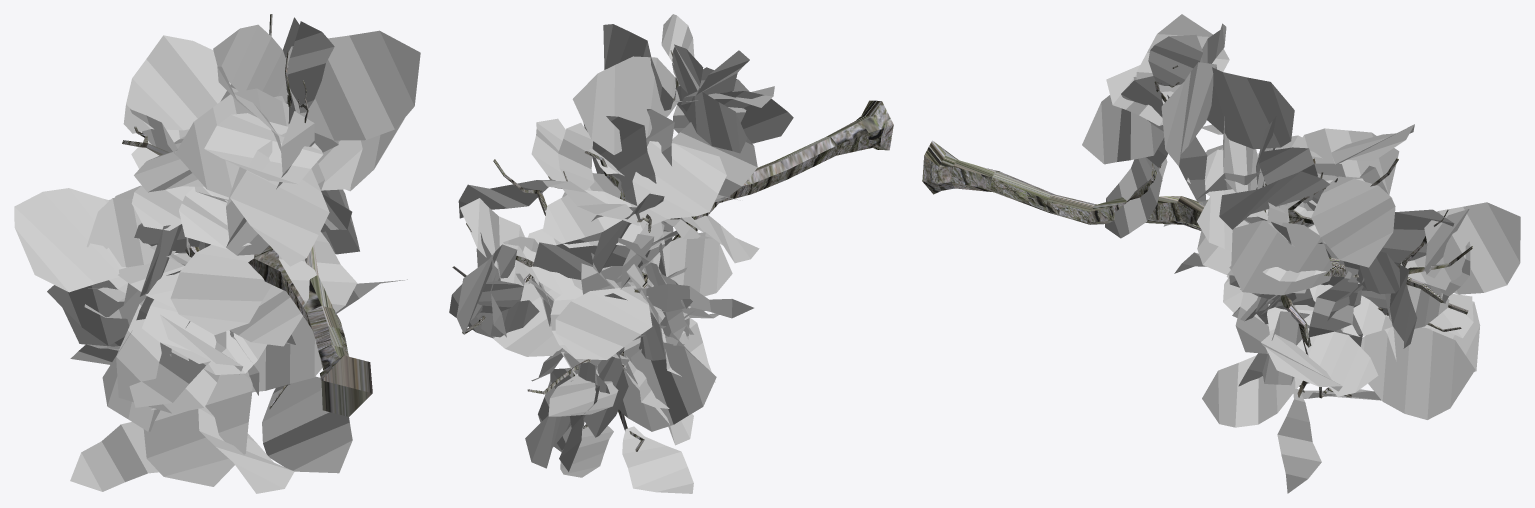
Rendered from tree2.fbx.
The picture shows the model from 3 angles, left to right: view 1: azimuth 30°, elevation 25°; view 2: azimuth 150°, elevation 25°; view 3: azimuth 270°, elevation 25°; orthographic projection. The views are drawn at different scales.
Parts seen in each view (by area): view 1: Cube|281d189f87e83778f13cd9dab3140979|Dupli|72, Cube|281d189f87e83778f13cd9dab3140979|Dupli|51, Cube, Cube|281d189f87e83778f13cd9dab3140979|Dupli|41, Cube|281d189f87e83778f13cd9dab3140979|Dupli|99, Cube|281d189f87e83778f13cd9dab3140979|Dupli|80, Cube|281d189f87e83778f13cd9dab3140979|Dupli|56, Cube|281d189f87e83778f13cd9dab3140979|Dupli|88, Cube|281d189f87e83778f13cd9dab3140979|Dupli|69, Cube|281d189f87e83778f13cd9dab3140979|Dupli|70, Cube|281d189f87e83778f13cd9dab3140979|Dupli|23, Cube|281d189f87e83778f13cd9dab3140979|Dupli|9 (+31 smaller); view 2: Cube, Cube|281d189f87e83778f13cd9dab3140979|Dupli|71, Cube|281d189f87e83778f13cd9dab3140979|Dupli|49, Cube|281d189f87e83778f13cd9dab3140979|Dupli|96, Cube|281d189f87e83778f13cd9dab3140979|Dupli|16, Cube|281d189f87e83778f13cd9dab3140979|Dupli|17, Cube|281d189f87e83778f13cd9dab3140979|Dupli|47, Cube|281d189f87e83778f13cd9dab3140979|Dupli|91, Cube|281d189f87e83778f13cd9dab3140979|Dupli|94, Cube|281d189f87e83778f13cd9dab3140979|Dupli|69, Cube|281d189f87e83778f13cd9dab3140979|Dupli|63, Cube|281d189f87e83778f13cd9dab3140979|Dupli|62 (+40 smaller); view 3: Cube, Cube|281d189f87e83778f13cd9dab3140979|Dupli|42, Cube|281d189f87e83778f13cd9dab3140979|Dupli|20, Cube|281d189f87e83778f13cd9dab3140979|Dupli|59, Cube|281d189f87e83778f13cd9dab3140979|Dupli|86, Cube|281d189f87e83778f13cd9dab3140979|Dupli|71, Cube|281d189f87e83778f13cd9dab3140979|Dupli|44, Cube|281d189f87e83778f13cd9dab3140979|Dupli|56, Cube|281d189f87e83778f13cd9dab3140979|Dupli|72, Cube|281d189f87e83778f13cd9dab3140979|Dupli|78, Cube|281d189f87e83778f13cd9dab3140979|Dupli|85, Cube|281d189f87e83778f13cd9dab3140979|Dupli|80 (+25 smaller).
Boxes of the visible parts, x1=… form: Cube|281d189f87e83778f13cd9dab3140979|Dupli|72: x1=274, y1=30, x2=420, y2=140; Cube|281d189f87e83778f13cd9dab3140979|Dupli|51: x1=14, y1=188, x2=119, y2=292; Cube: x1=122, y1=14, x2=372, y2=416; Cube|281d189f87e83778f13cd9dab3140979|Dupli|41: x1=143, y1=371, x2=252, y2=486; Cube|281d189f87e83778f13cd9dab3140979|Dupli|99: x1=123, y1=35, x2=230, y2=133; Cube|281d189f87e83778f13cd9dab3140979|Dupli|80: x1=262, y1=376, x2=352, y2=473; Cube|281d189f87e83778f13cd9dab3140979|Dupli|56: x1=230, y1=133, x2=329, y2=266; Cube|281d189f87e83778f13cd9dab3140979|Dupli|88: x1=170, y1=244, x2=271, y2=334; Cube|281d189f87e83778f13cd9dab3140979|Dupli|69: x1=175, y1=88, x2=296, y2=197; Cube|281d189f87e83778f13cd9dab3140979|Dupli|70: x1=204, y1=113, x2=323, y2=184; Cube|281d189f87e83778f13cd9dab3140979|Dupli|23: x1=213, y1=24, x2=291, y2=96; Cube|281d189f87e83778f13cd9dab3140979|Dupli|9: x1=116, y1=299, x2=219, y2=413; Cube: x1=452, y1=50, x2=893, y2=451; Cube|281d189f87e83778f13cd9dab3140979|Dupli|71: x1=572, y1=56, x2=679, y2=154; Cube|281d189f87e83778f13cd9dab3140979|Dupli|49: x1=555, y1=285, x2=652, y2=359; Cube|281d189f87e83778f13cd9dab3140979|Dupli|96: x1=632, y1=141, x2=726, y2=225; Cube|281d189f87e83778f13cd9dab3140979|Dupli|16: x1=619, y1=342, x2=716, y2=431; Cube|281d189f87e83778f13cd9dab3140979|Dupli|17: x1=622, y1=426, x2=693, y2=493; Cube|281d189f87e83778f13cd9dab3140979|Dupli|47: x1=642, y1=232, x2=732, y2=296; Cube|281d189f87e83778f13cd9dab3140979|Dupli|91: x1=542, y1=190, x2=646, y2=248; Cube|281d189f87e83778f13cd9dab3140979|Dupli|94: x1=583, y1=116, x2=656, y2=205; Cube|281d189f87e83778f13cd9dab3140979|Dupli|69: x1=675, y1=86, x2=747, y2=153; Cube|281d189f87e83778f13cd9dab3140979|Dupli|63: x1=533, y1=232, x2=648, y2=279; Cube|281d189f87e83778f13cd9dab3140979|Dupli|62: x1=460, y1=198, x2=534, y2=285; Cube: x1=922, y1=65, x2=1472, y2=398; Cube|281d189f87e83778f13cd9dab3140979|Dupli|42: x1=1361, y1=327, x2=1475, y2=419; Cube|281d189f87e83778f13cd9dab3140979|Dupli|20: x1=1400, y1=202, x2=1520, y2=294; Cube|281d189f87e83778f13cd9dab3140979|Dupli|59: x1=1231, y1=220, x2=1332, y2=295; Cube|281d189f87e83778f13cd9dab3140979|Dupli|86: x1=1311, y1=176, x2=1395, y2=267; Cube|281d189f87e83778f13cd9dab3140979|Dupli|71: x1=1207, y1=67, x2=1294, y2=149; Cube|281d189f87e83778f13cd9dab3140979|Dupli|44: x1=1202, y1=355, x2=1302, y2=427; Cube|281d189f87e83778f13cd9dab3140979|Dupli|56: x1=1082, y1=77, x2=1169, y2=164; Cube|281d189f87e83778f13cd9dab3140979|Dupli|72: x1=1161, y1=62, x2=1216, y2=166; Cube|281d189f87e83778f13cd9dab3140979|Dupli|78: x1=1304, y1=331, x2=1378, y2=396; Cube|281d189f87e83778f13cd9dab3140979|Dupli|85: x1=1219, y1=171, x2=1329, y2=229; Cube|281d189f87e83778f13cd9dab3140979|Dupli|80: x1=1277, y1=389, x2=1321, y2=493.
Size of the model in its own units: 672 by 947 by 1216.
